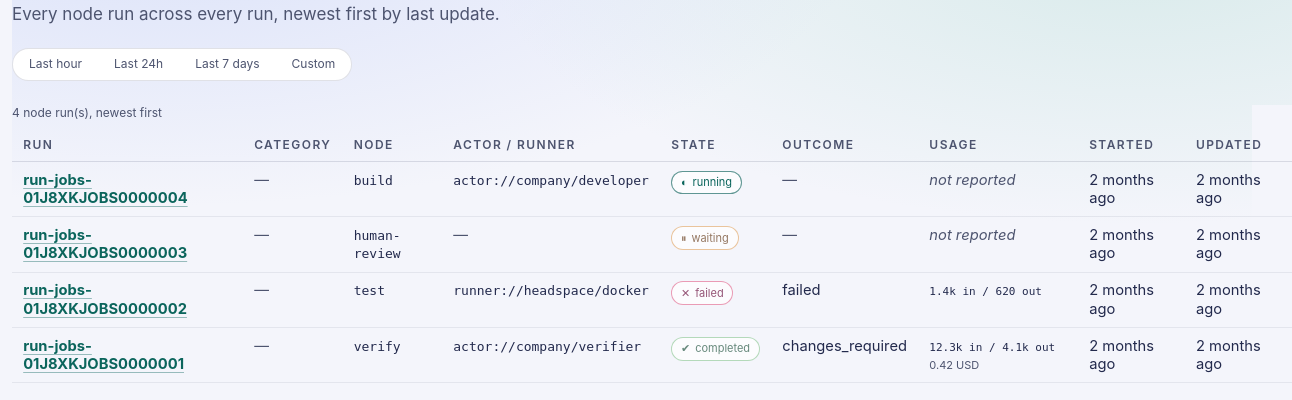
Test case: JobsTimeline time-range filter (server-side) › never filters client-side: a change in range always produces a new request, not a re-slice of the existing items
The image size is (1292, 400).
Click the button "Last 24h" at (139, 64), box top-left (98, 49), bottom-right (179, 80)
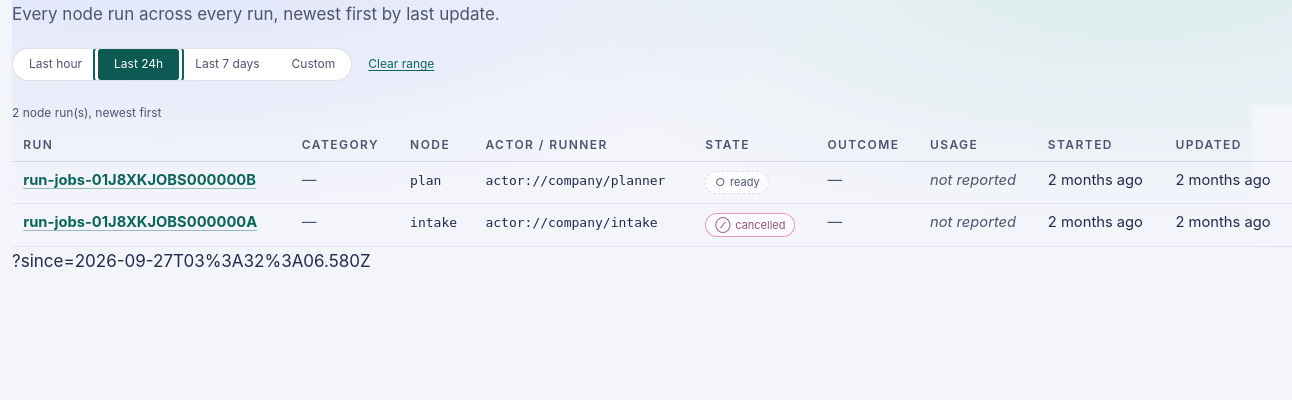
Expected: the link "run-jobs-01J8XKJOBS000000B" is shown, top-left (23, 170), bottom-right (256, 188)
Expected: the link "run-jobs-01J8XKJOBS0000004" is gone
